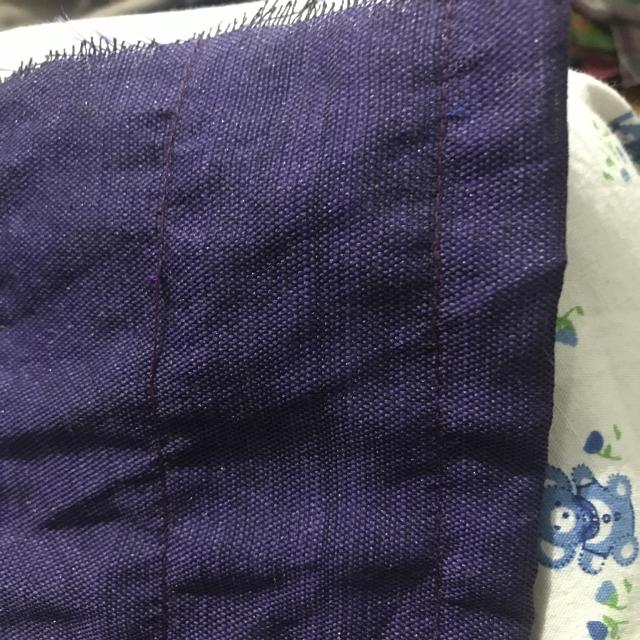skip: (146, 243, 190, 392)
